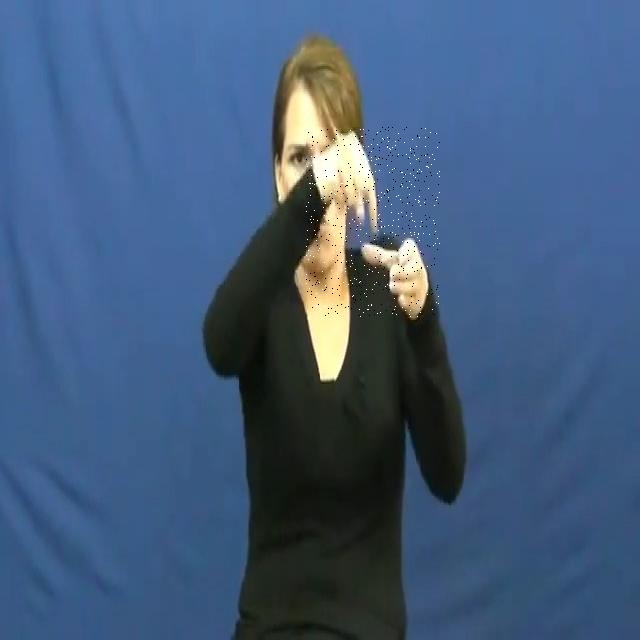lactose: (306, 128, 440, 318)
